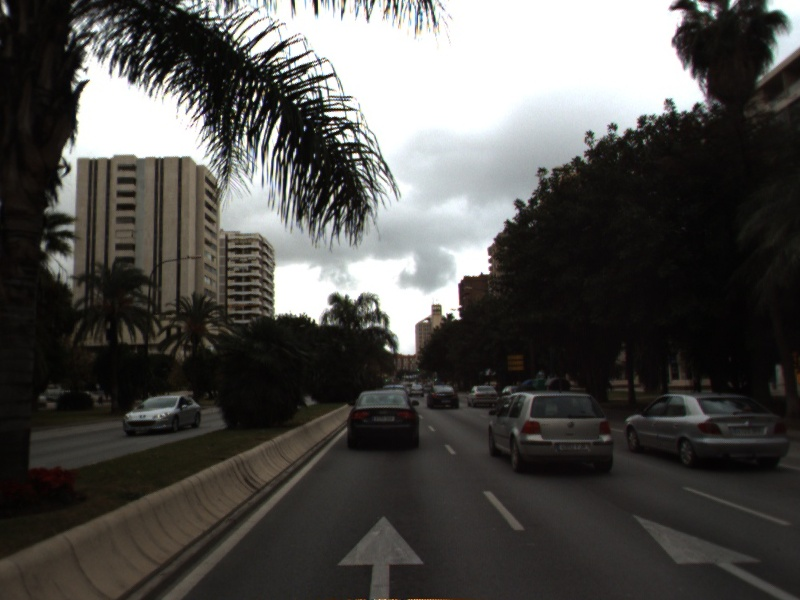STRAIGHT: (629, 509, 800, 600), (332, 511, 429, 600)
